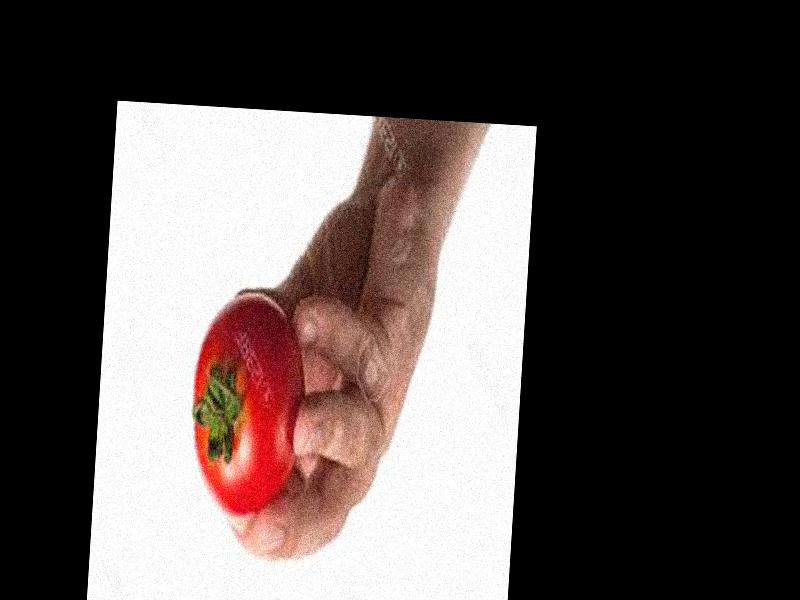Tomato: (185, 292, 308, 518)
